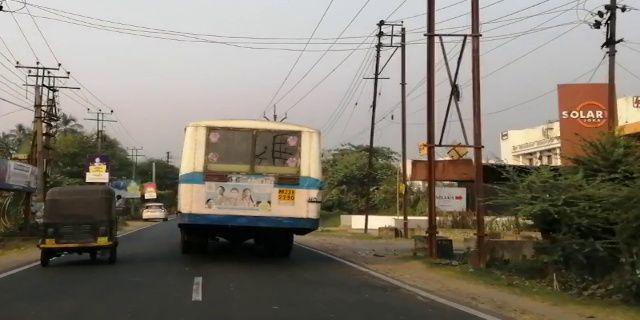Autorickshaw: (36, 182, 120, 265)
Bus: (171, 117, 325, 260)
Car: (140, 194, 168, 227)
